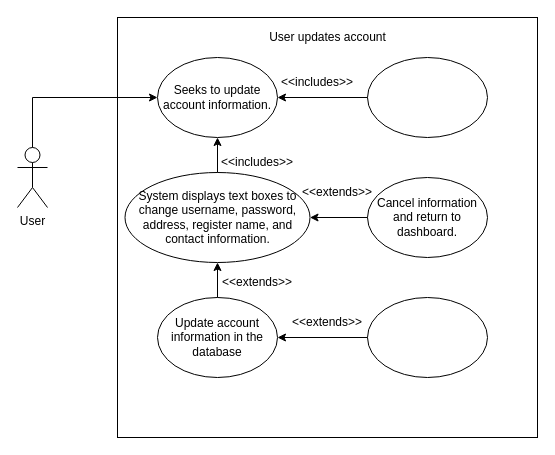
This 555x455 diagram has some shape labels left out. The shapes that lost their labels are listed below. From the top down, each one's box as (x1, y1, x2, y2) in pixels, then its label:
(366, 56, 488, 138): System queries and returns account information
(366, 296, 488, 378): Display conformation and update users dashboard.
